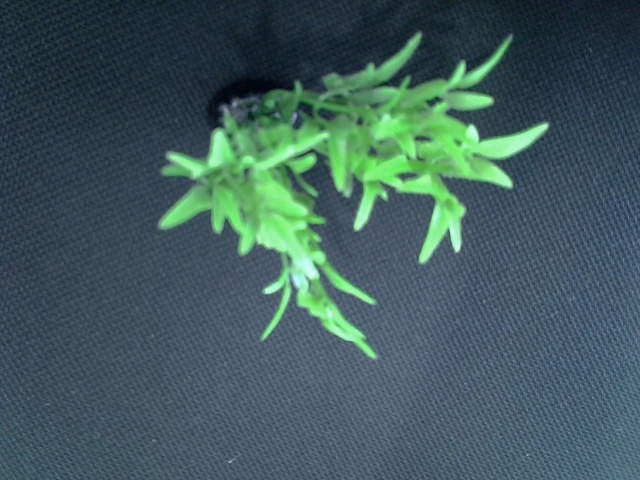튤립새싹: (172, 50, 519, 350)
